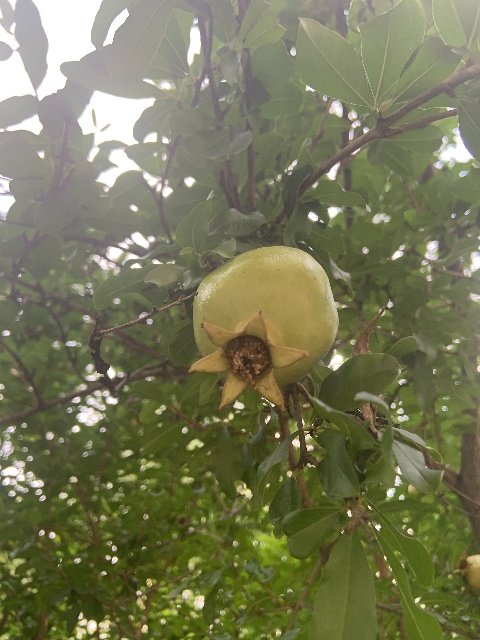mid-growth: (188, 245, 338, 412)
